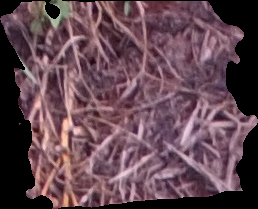soil: (2, 3, 255, 208)
